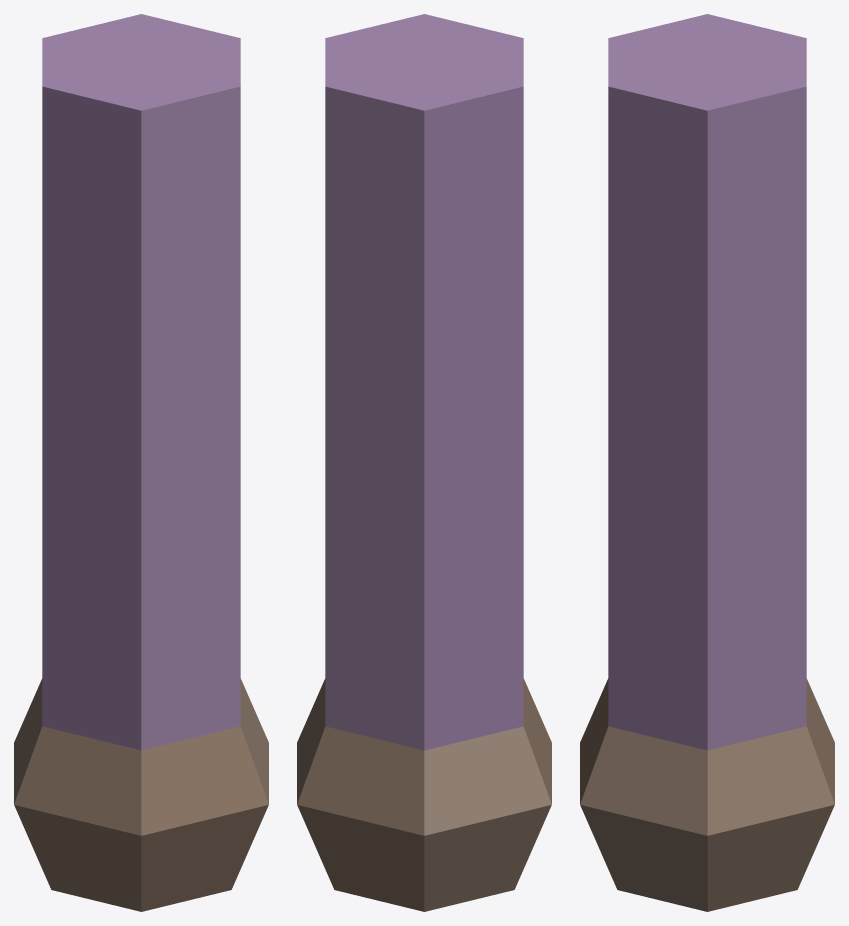
Rendered from arm.glb.
3 views of the same model, side by side, from view 1: azimuth 30°, elevation 25°; view 2: azimuth 150°, elevation 25°; view 3: azimuth 270°, elevation 25° (orthographic).
Visible parts, largest first — view 1: arm2; view 2: arm2; view 3: arm2.
Boxes of the visible parts, x1=… form: arm2: x1=14, y1=14, x2=268, y2=911; arm2: x1=297, y1=14, x2=551, y2=911; arm2: x1=580, y1=14, x2=834, y2=911.
Bounding box in the file's own units: 0.18 × 0.57 × 0.1559.
